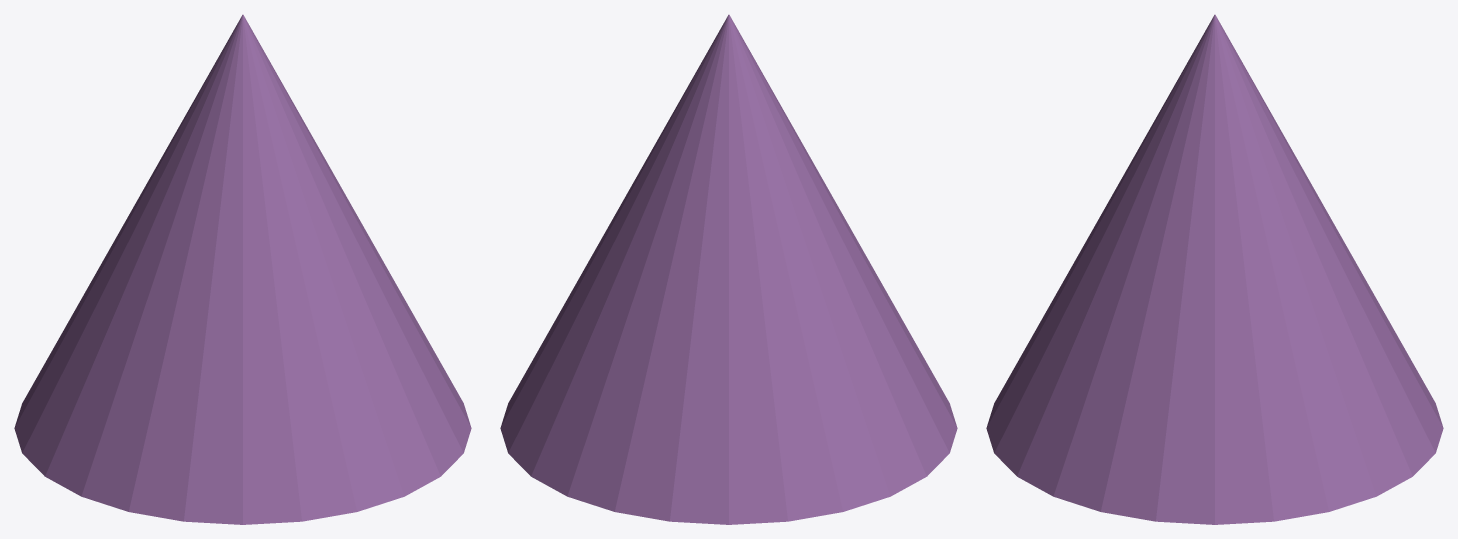
The model's file is Powerful Densor (2).glb.
3 views of the same model, side by side, from view 1: azimuth 30°, elevation 25°; view 2: azimuth 150°, elevation 25°; view 3: azimuth 270°, elevation 25° (orthographic).
Parts seen in each view (by area): view 1: Mesh_Mesh_head_geo.001_lambert2SG.001; view 2: Mesh_Mesh_head_geo.001_lambert2SG.001; view 3: Mesh_Mesh_head_geo.001_lambert2SG.001.
Boxes of the visible parts, box(x1,y1,x2,y2) form: Mesh_Mesh_head_geo.001_lambert2SG.001: box(14, 14, 471, 524); Mesh_Mesh_head_geo.001_lambert2SG.001: box(500, 14, 957, 524); Mesh_Mesh_head_geo.001_lambert2SG.001: box(986, 14, 1443, 524).
Bounding box in the file's own units: 20 × 20 × 20.
